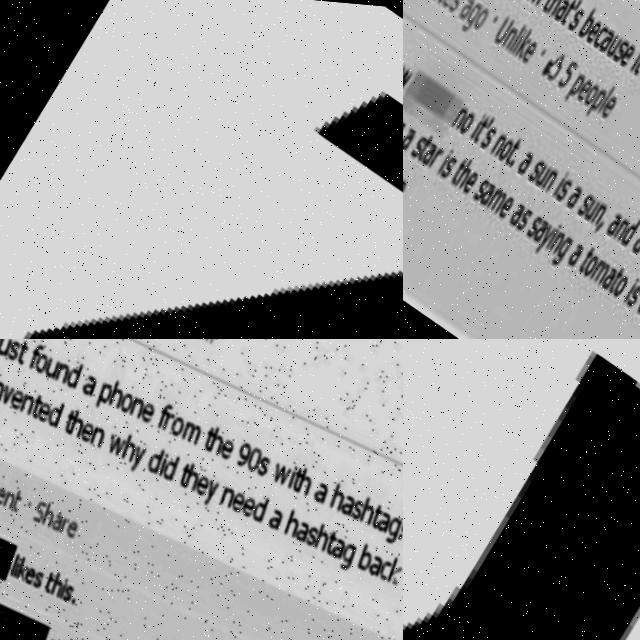0: (236, 433, 266, 467)
1: (550, 51, 576, 85)
9: (226, 429, 255, 462)
A: (413, 134, 436, 165), (591, 18, 614, 48), (557, 174, 580, 204), (592, 254, 615, 284), (597, 203, 619, 231), (558, 232, 580, 260), (508, 143, 530, 171), (621, 220, 640, 250), (472, 175, 493, 202), (500, 195, 521, 221), (524, 211, 545, 237), (625, 278, 640, 309), (545, 0, 569, 18), (450, 0, 473, 17), (403, 118, 415, 148)
B: (572, 0, 597, 32)
C: (586, 15, 607, 42)
D: (612, 205, 639, 239)
E: (612, 32, 635, 63), (578, 10, 601, 38), (593, 84, 616, 112), (568, 67, 590, 95), (488, 188, 510, 215), (515, 33, 536, 59), (454, 164, 475, 190)
G: (542, 226, 568, 261), (454, 0, 480, 28)
H: (447, 153, 471, 185), (541, 0, 566, 10)
I: (505, 19, 526, 49), (462, 107, 482, 137), (623, 34, 640, 64), (430, 143, 448, 170), (546, 163, 564, 189), (539, 216, 557, 242), (616, 268, 634, 294), (634, 43, 640, 72)
J: (403, 339, 640, 640)
K: (508, 20, 533, 54)
L: (502, 15, 524, 46), (591, 75, 613, 106)
M: (582, 250, 605, 278), (479, 181, 502, 208)
N: (443, 99, 465, 127), (482, 126, 504, 153), (533, 160, 554, 188), (495, 20, 515, 45), (582, 194, 602, 219), (606, 208, 626, 233), (542, 222, 562, 247)
O: (451, 104, 473, 132), (603, 264, 625, 292), (489, 130, 510, 158), (574, 243, 595, 270), (466, 0, 488, 25), (576, 74, 597, 100)
P: (557, 64, 584, 98), (580, 80, 604, 112)
R: (420, 143, 438, 167)
S: (606, 29, 628, 57), (471, 118, 493, 146), (431, 149, 453, 177), (547, 170, 569, 197), (568, 184, 590, 211), (561, 0, 583, 26), (508, 200, 529, 227), (465, 171, 486, 197), (618, 273, 639, 299), (518, 206, 538, 233), (520, 152, 540, 177), (403, 128, 422, 154), (632, 226, 640, 256), (442, 0, 464, 9)
T: (569, 235, 592, 266), (465, 110, 486, 141), (497, 130, 518, 161), (443, 151, 464, 180), (409, 129, 429, 156), (600, 258, 620, 285), (555, 0, 576, 18), (627, 37, 640, 66), (534, 0, 557, 7)
U: (487, 7, 512, 40), (598, 24, 621, 52), (575, 189, 595, 215), (527, 156, 547, 181)
W: (403, 60, 410, 89)
Y: (525, 216, 551, 251)
Z: (0, 0, 403, 339)
